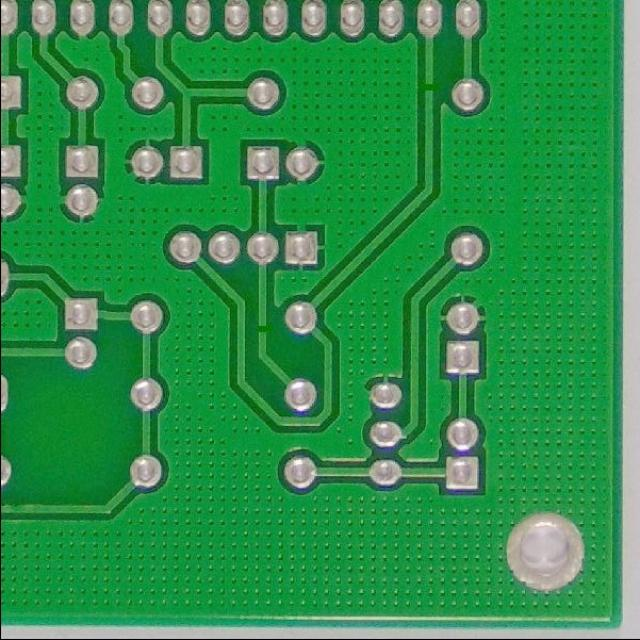open_circuit: (416, 76, 439, 101), (251, 319, 273, 342)
